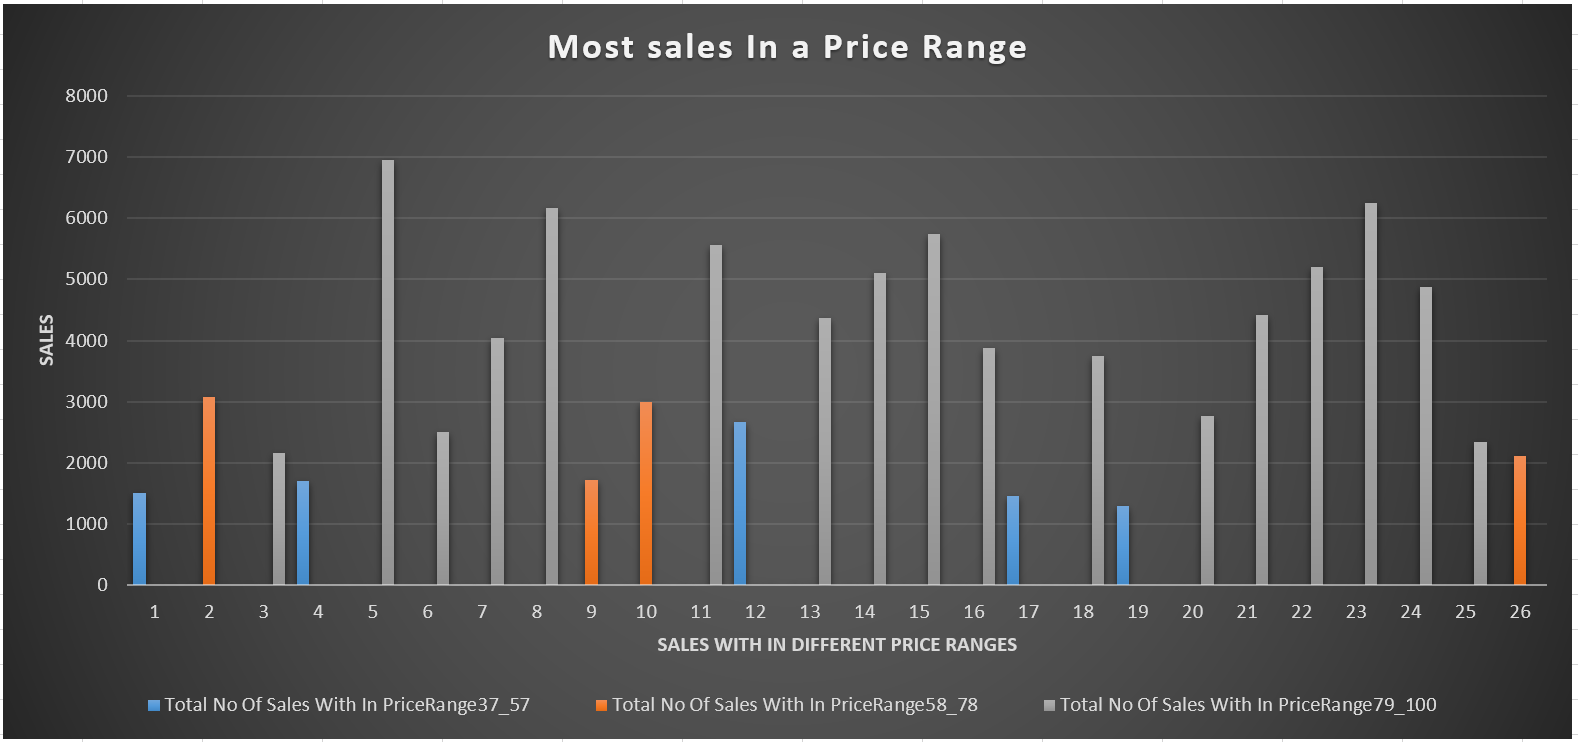

Layout of this report page (visuals, bound fields, positions):
{"tool":"powerbi","page":{"name":"Page 1","canvas":[1280,720],"ordinal":0},"visuals":[{"type":"textbox","box":[10,0,280,280],"z":0},{"type":"columnChart","fields":{"Category":["sales_data_sample_cleaned.CITY"],"Y":["Max(sales_data_sample_cleaned.SALES)"],"Series":["sales_data_sample_cleaned.COUNTRY"]},"box":[10,0,691,425],"z":1000}]}

Visuals, with their boxes on the page's 1280x720 design canvas (x1, y1, x2, y2). These are canvas units, not pixel positions in the 1578x742 screenshot, which may show the page scaled, cropped or inside an application window:
textbox: bbox(10, 0, 290, 280)
columnChart - sales_data_sample_cleaned.CITY x Max(sales_data_sample_cleaned.SALES): bbox(10, 0, 701, 425)
